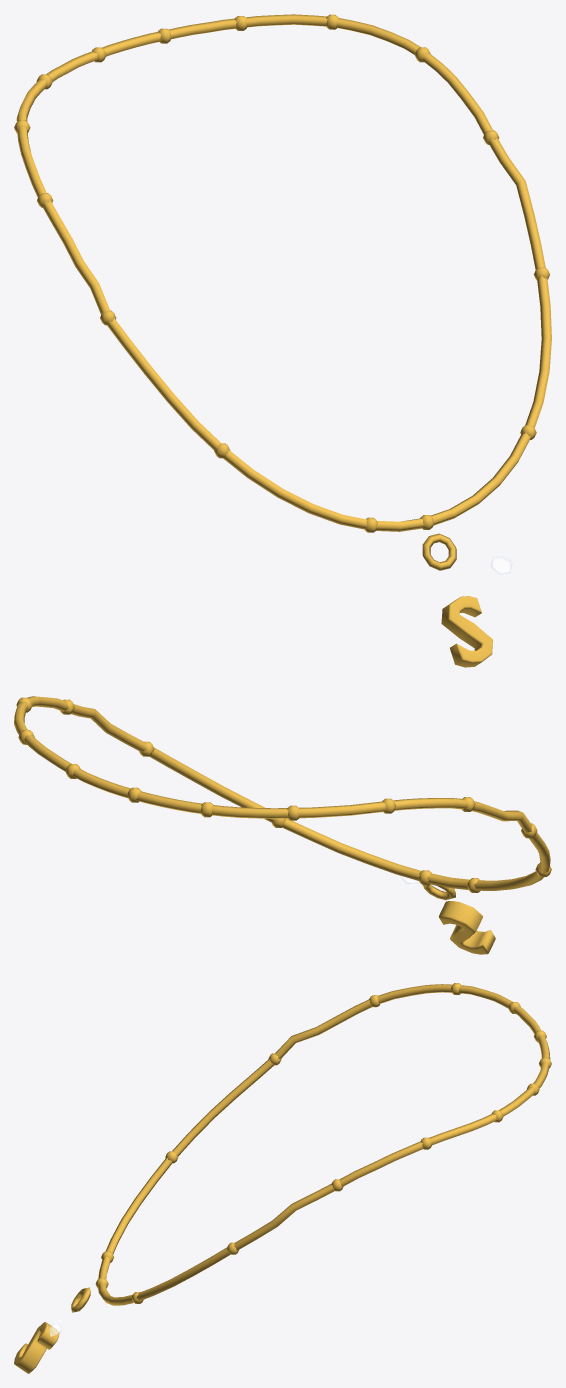
The model's file is initial_necklace_s.glb.
The picture shows the model from 3 angles, top to bottom: view 1: azimuth 30°, elevation 25°; view 2: azimuth 150°, elevation 25°; view 3: azimuth 270°, elevation 25°; orthographic projection. The views are drawn at different scales.
Visible parts, largest first — view 1: initial_necklace_s; view 2: initial_necklace_s; view 3: initial_necklace_s.
Part boxes in pixels (left/top/right/bottom): initial_necklace_s: left=14, top=14, right=551, bottom=667; initial_necklace_s: left=14, top=696, right=551, bottom=954; initial_necklace_s: left=14, top=983, right=551, bottom=1373.
Bounding box in the file's own units: 0.0912 × 0.08 × 0.1214.
